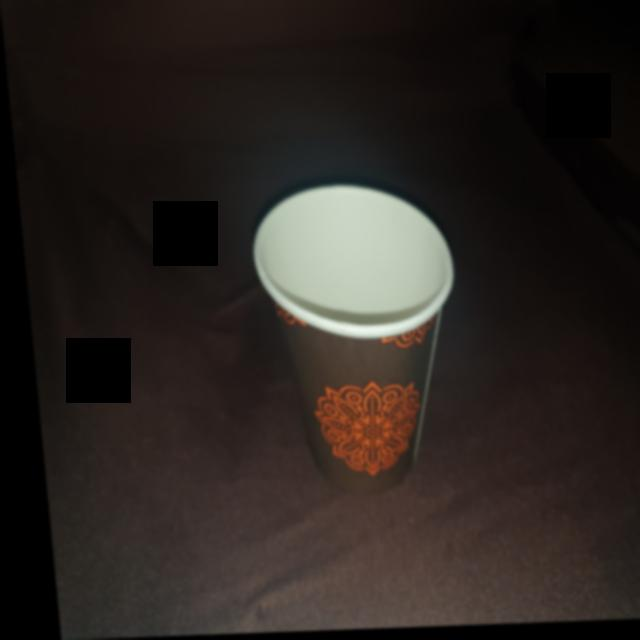cups: (237, 173, 471, 504)
